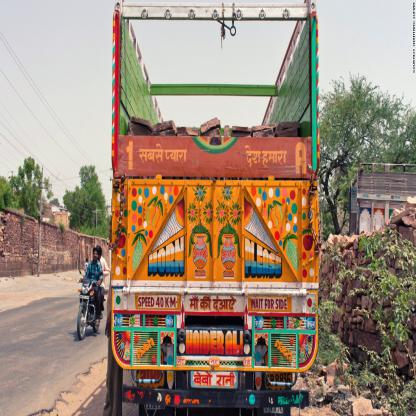motorcycle: (75, 247, 105, 339)
truck: (110, 2, 321, 415)
